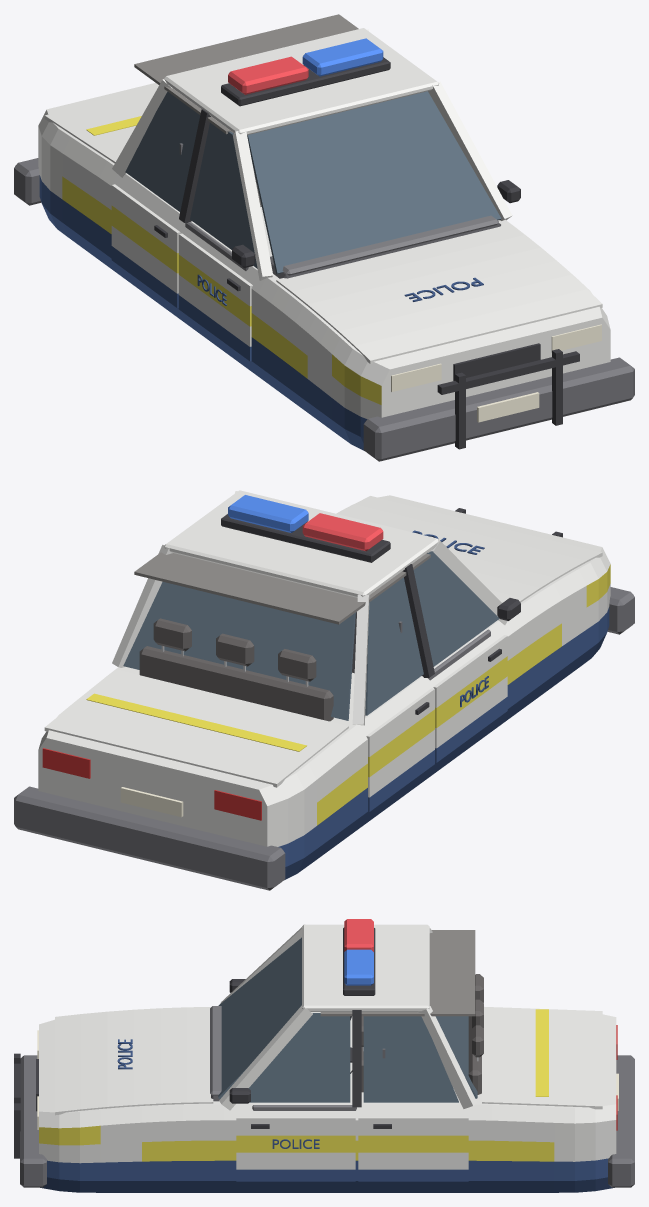
File: police_car.glb
3 renders of one model, top to bottom at view 1: azimuth 30°, elevation 25°; view 2: azimuth 150°, elevation 25°; view 3: azimuth 270°, elevation 25°, orthographic. The views are drawn at different scales.
Visible parts, largest first — view 1: body, win_front, bonnet, roof, bumper_f, door_fl, door_rl, win_rl, win_fl, interior_headliner, boot, interior_dash_top (+16 smaller); view 2: body, boot, win_rear, bumper_r, roof, bonnet, interior_headliner, interior_seatback.005, door_fl, win_rl, door_rl, win_fl (+15 smaller); view 3: body, bonnet, boot, roof, door_fr, door_rr, win_rr, win_front, win_fr, interior_headliner, bumper_r, bumper_f (+12 smaller).
Part boxes in pixels (x1=…): body: x1=38, y1=83, x2=610, y2=458; win_front: x1=247, y1=91, x2=501, y2=274; bonnet: x1=276, y1=223, x2=602, y2=364; roof: x1=164, y1=28, x2=439, y2=135; bumper_f: x1=363, y1=357, x2=634, y2=461; door_fl: x1=178, y1=233, x2=252, y2=361; door_rl: x1=111, y1=184, x2=180, y2=308; win_rl: x1=125, y1=91, x2=200, y2=211; win_fl: x1=190, y1=123, x2=257, y2=268; interior_headliner: x1=134, y1=14, x2=358, y2=134; boot: x1=44, y1=88, x2=157, y2=163; interior_dash_top: x1=270, y1=215, x2=498, y2=275; body: x1=38, y1=495, x2=610, y2=888; boot: x1=44, y1=669, x2=348, y2=787; win_rear: x1=123, y1=582, x2=355, y2=720; bumper_r: x1=14, y1=786, x2=285, y2=890; roof: x1=164, y1=490, x2=438, y2=597; bonnet: x1=337, y1=496, x2=602, y2=602; interior_headliner: x1=134, y1=552, x2=430, y2=624; interior_seatback.005: x1=139, y1=646, x2=333, y2=721; door_fl: x1=433, y1=635, x2=507, y2=762; win_rl: x1=365, y1=577, x2=423, y2=715; door_rl: x1=366, y1=688, x2=434, y2=811; win_fl: x1=413, y1=551, x2=499, y2=666; body: x1=39, y1=1012, x2=616, y2=1192; bonnet: x1=55, y1=1007, x2=213, y2=1115; boot: x1=482, y1=1006, x2=602, y2=1109; roof: x1=302, y1=924, x2=429, y2=1011; door_fr: x1=236, y1=1117, x2=355, y2=1181; door_rr: x1=358, y1=1117, x2=468, y2=1181; win_rr: x1=363, y1=1016, x2=458, y2=1102; win_front: x1=218, y1=937, x2=301, y2=1098; win_fr: x1=249, y1=1013, x2=350, y2=1102; interior_headliner: x1=320, y1=930, x2=475, y2=1016; bumper_r: x1=608, y1=1055, x2=634, y2=1187; bumper_f: x1=20, y1=1055, x2=46, y2=1187.
Bounding box in the file's own units: 2.02 × 1.61 × 4.63.
